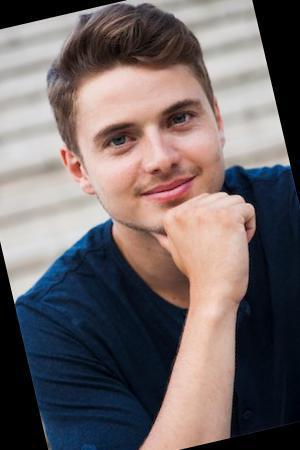Sober: (75, 70, 218, 220)
